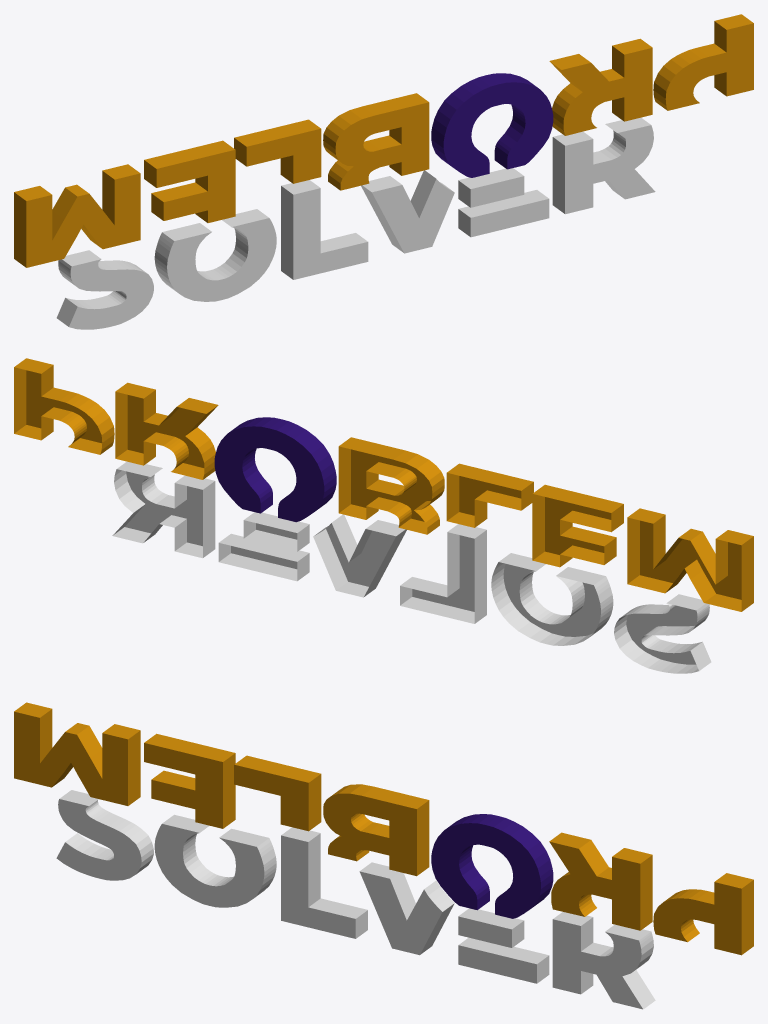
The model's file is ProblemSolver.fbx.
3 views of the same model, one above another, from view 1: azimuth 30°, elevation 25°; view 2: azimuth 150°, elevation 25°; view 3: azimuth 330°, elevation 25° (orthographic).
Visible parts, largest first — view 1: Object001; view 2: Object001; view 3: Object001.
Part boxes in pixels (x1=…): Object001: x1=14, y1=14, x2=753, y2=329; Object001: x1=14, y1=358, x2=753, y2=673; Object001: x1=14, y1=702, x2=753, y2=1009.
Bounding box in the file's own units: 160 × 31.12 × 4.74.
